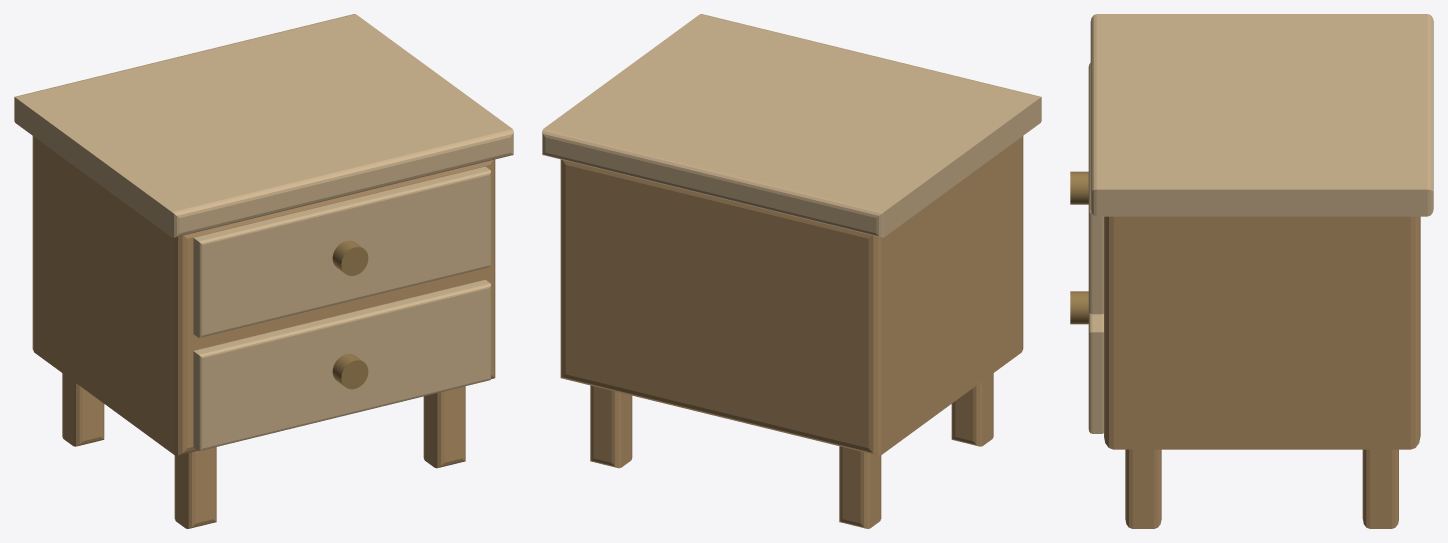
Rendered from nightstand.glb.
The picture shows the model from 3 angles, left to right: view 1: azimuth 30°, elevation 25°; view 2: azimuth 150°, elevation 25°; view 3: azimuth 270°, elevation 25°; orthographic projection. The views are drawn at different scales.
Visible parts, largest first — view 1: Top, Drawer face (×2), Cabinet body, Tapered foot (×3), Brass drawer pull (×2); view 2: Cabinet body, Top, Tapered foot (×3); view 3: Cabinet body, Top, Tapered foot (×2), Drawer face (×2), Brass drawer pull (×2).
Boxes of the visible parts, x1,y1,x2,y2 form: Top: (14,14,513,237); Drawer face (×2): (193,166,490,450); Cabinet body: (32,136,495,455); Tapered foot (×3): (62,373,465,528); Brass drawer pull (×2): (332,240,368,389); Cabinet body: (560,136,1023,455); Top: (542,14,1041,237); Tapered foot (×3): (590,373,993,528); Cabinet body: (1104,216,1420,449); Top: (1090,14,1433,216); Tapered foot (×2): (1125,449,1398,528); Drawer face (×2): (1088,63,1103,433); Brass drawer pull (×2): (1070,171,1088,324).
Bounding box in the file's own units: 0.63 × 0.5945 × 0.551.
